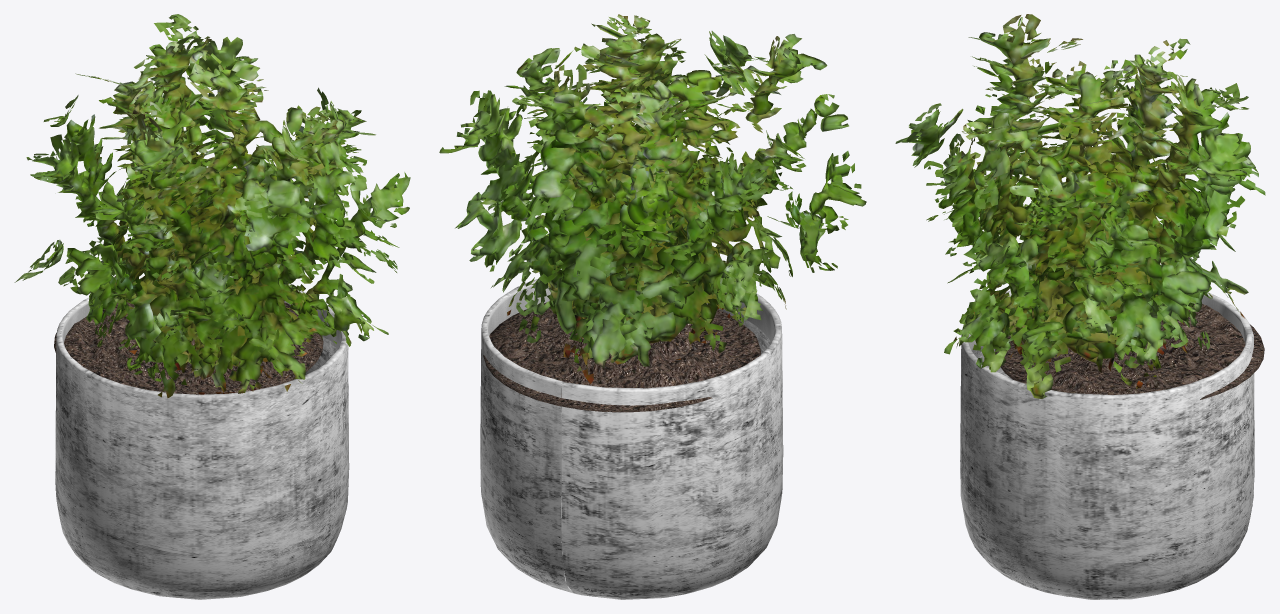
The model's file is Basill.glb.
The picture shows the model from 3 angles, left to right: view 1: azimuth 30°, elevation 25°; view 2: azimuth 150°, elevation 25°; view 3: azimuth 270°, elevation 25°; orthographic projection. The views are drawn at different scales.
Visible parts, largest first — view 1: Mesh_0.009, G-AUL10_0; view 2: Mesh_0.009, G-AUL10_0; view 3: Mesh_0.009, G-AUL10_0.
Boxes of the visible parts, bbox=[...] form: Mesh_0.009: bbox=[14, 14, 410, 398]; G-AUL10_0: bbox=[54, 290, 349, 599]; Mesh_0.009: bbox=[439, 14, 866, 384]; G-AUL10_0: bbox=[480, 279, 783, 599]; Mesh_0.009: bbox=[895, 14, 1265, 398]; G-AUL10_0: bbox=[960, 290, 1264, 599].
Size of the model in its own units: 0.8848 by 1.27 by 0.8516.
3 materials, 3 textured.
